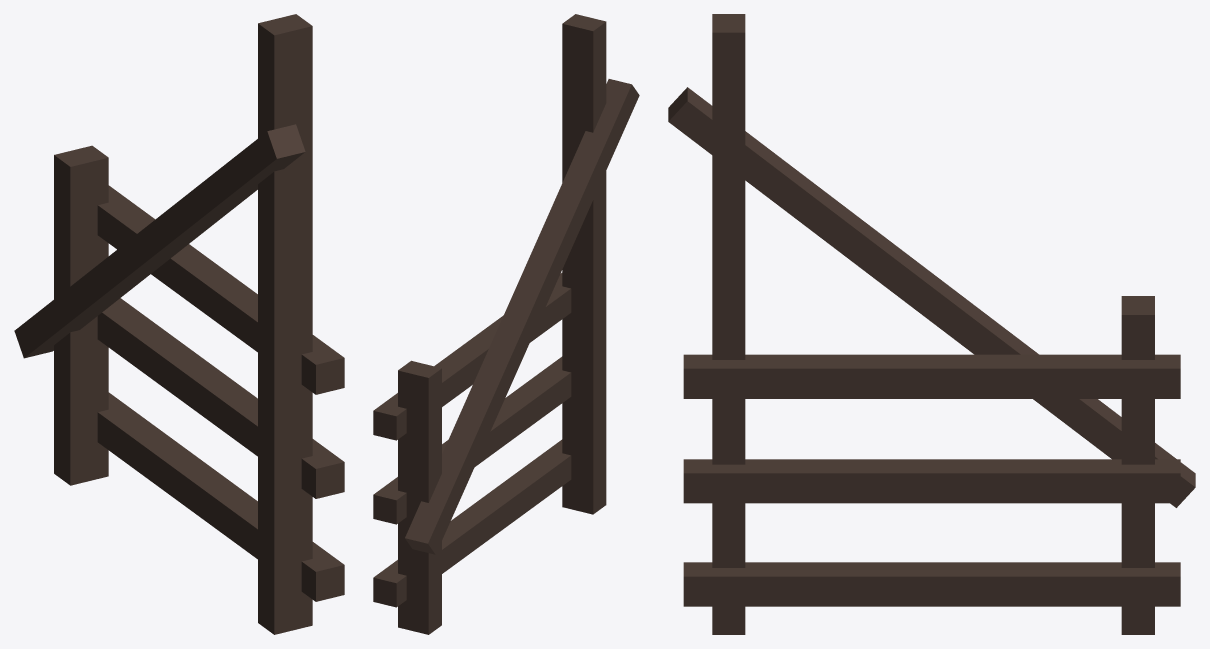
The model's file is brama_lewa.fbx.
3 views of the same model, side by side, from view 1: azimuth 30°, elevation 25°; view 2: azimuth 150°, elevation 25°; view 3: azimuth 270°, elevation 25° (orthographic). The views are drawn at different scales.
Parts seen in each view (by area): view 1: Cube.009; view 2: Cube.009; view 3: Cube.009.
Part boxes in pixels (left/top/right/bottom): Cube.009: left=14, top=14, right=344, bottom=634; Cube.009: left=373, top=14, right=639, bottom=634; Cube.009: left=668, top=14, right=1195, bottom=634.
Bounding box in the file's own units: 1.49 × 11.35 × 9.01.
